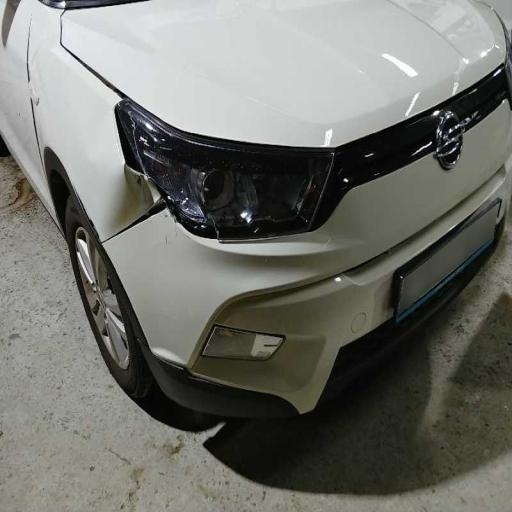broken: (79, 97, 200, 285)
